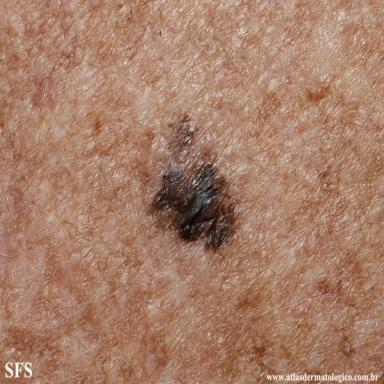Melanoma: (149, 114, 235, 254)
